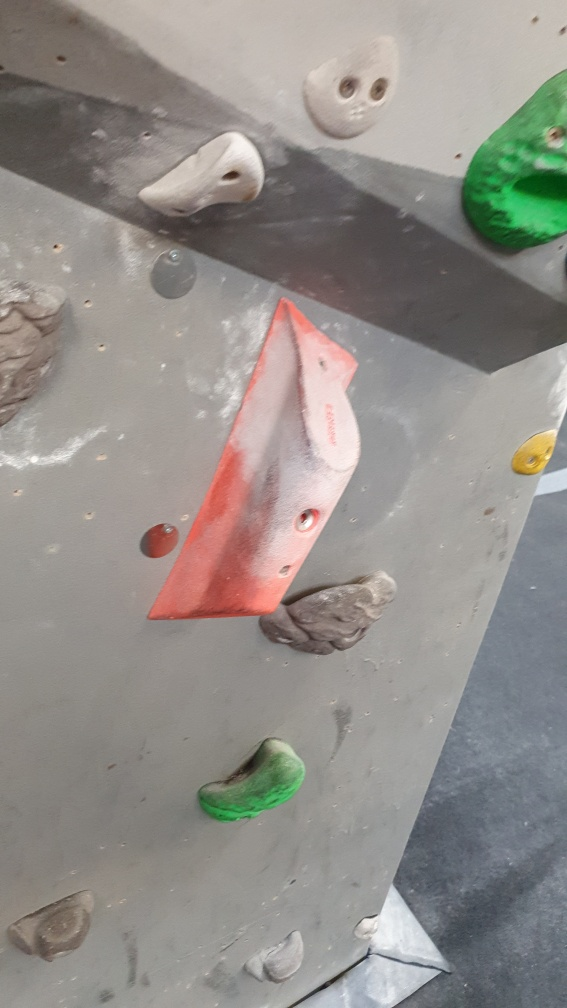Hand Start: (152, 248, 200, 301), (138, 520, 183, 558)
Jug: (257, 571, 399, 660), (196, 735, 308, 824)
Pinch: (143, 296, 362, 627)
Pocket: (460, 60, 567, 251)
